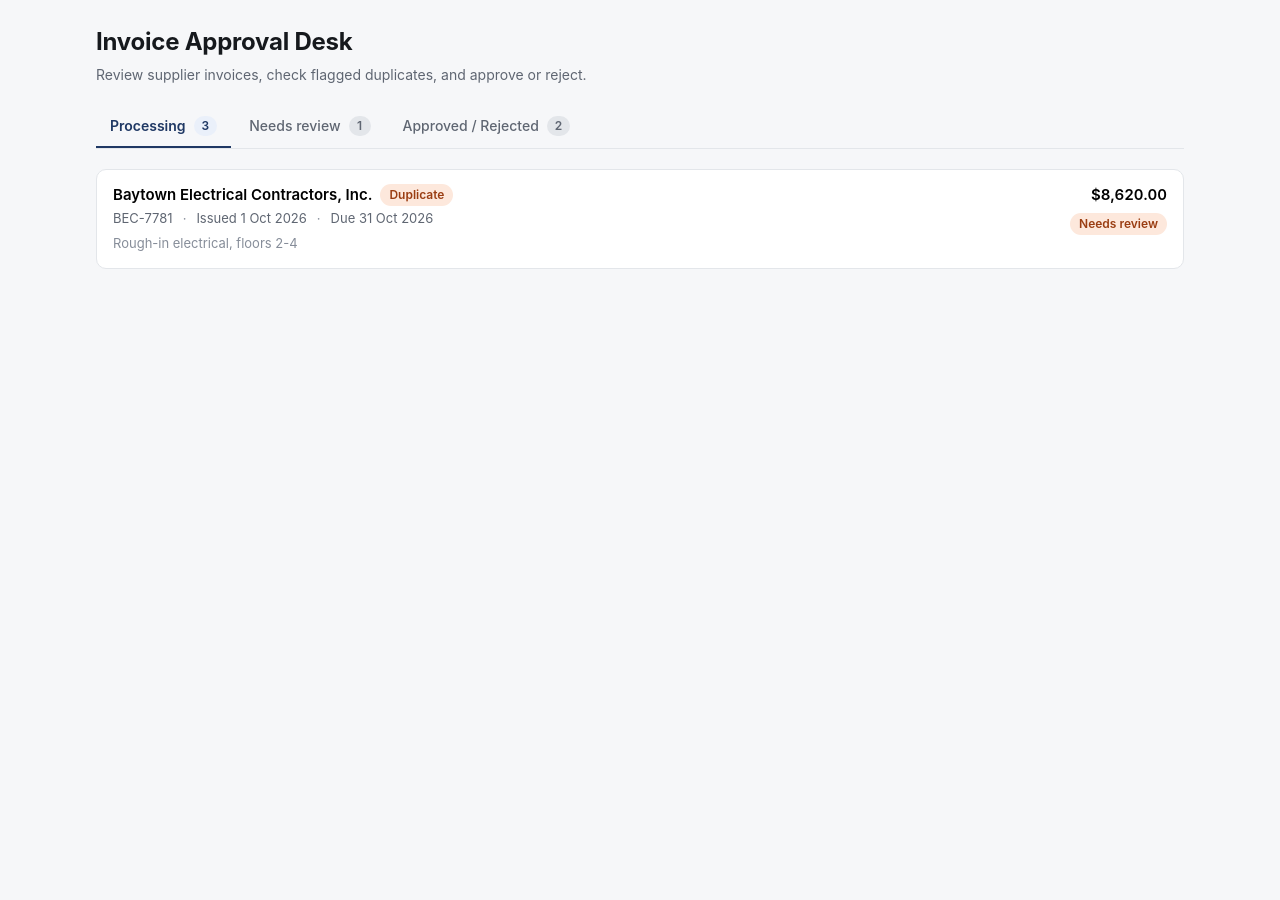
detail drawer › opens on click and explains why an invoice was flagged
Click the button with aria-label "Open invoice BEC-7781". click: {"x": 243, "y": 194}
box: x1=96 y1=169 x2=1184 y2=268
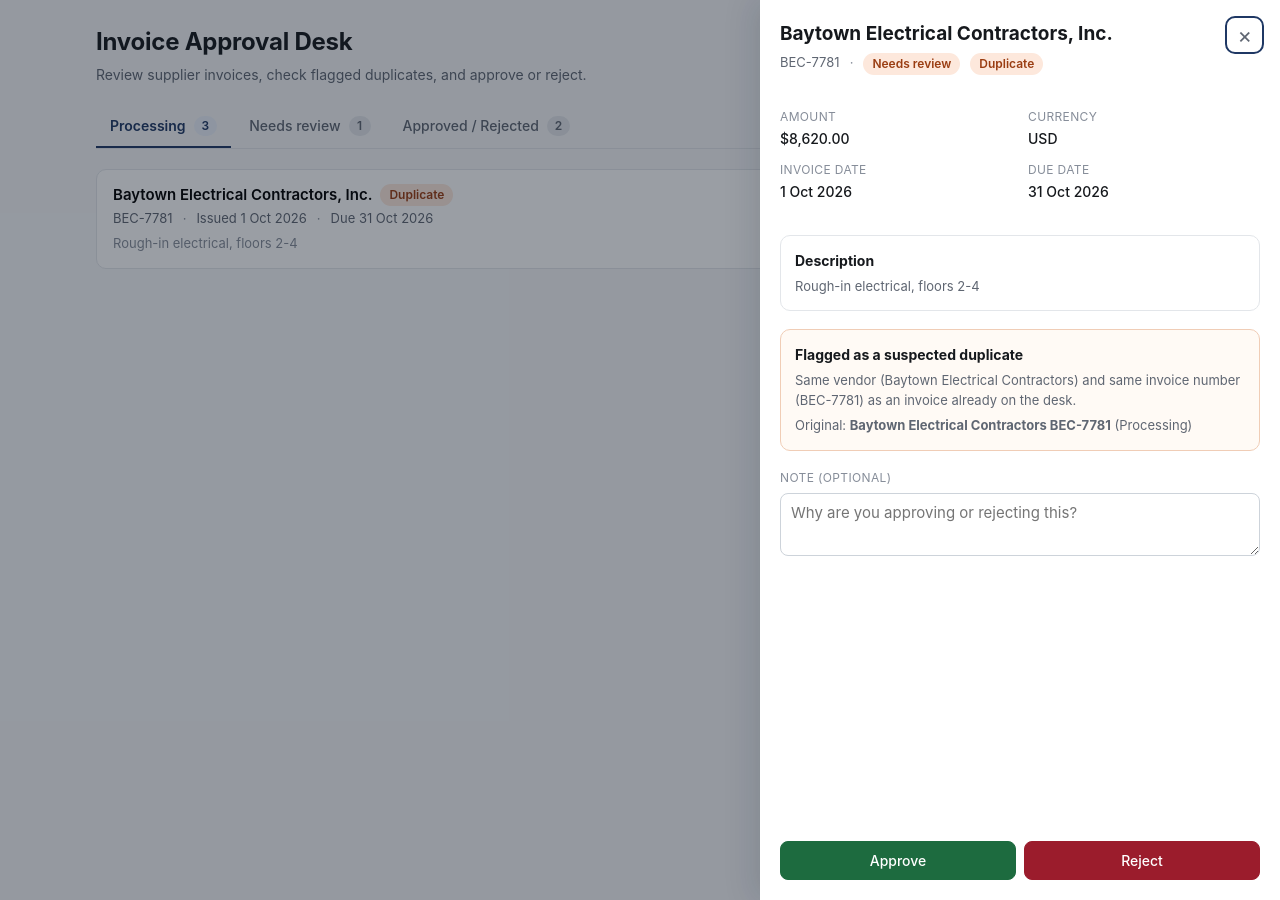
Expected: the dialog is shown, x1=760 y1=0 x2=1279 y2=899
Expected: the heading "Flagged as a suspected duplicate" is shown, x1=795 y1=346 x2=1023 y2=363
